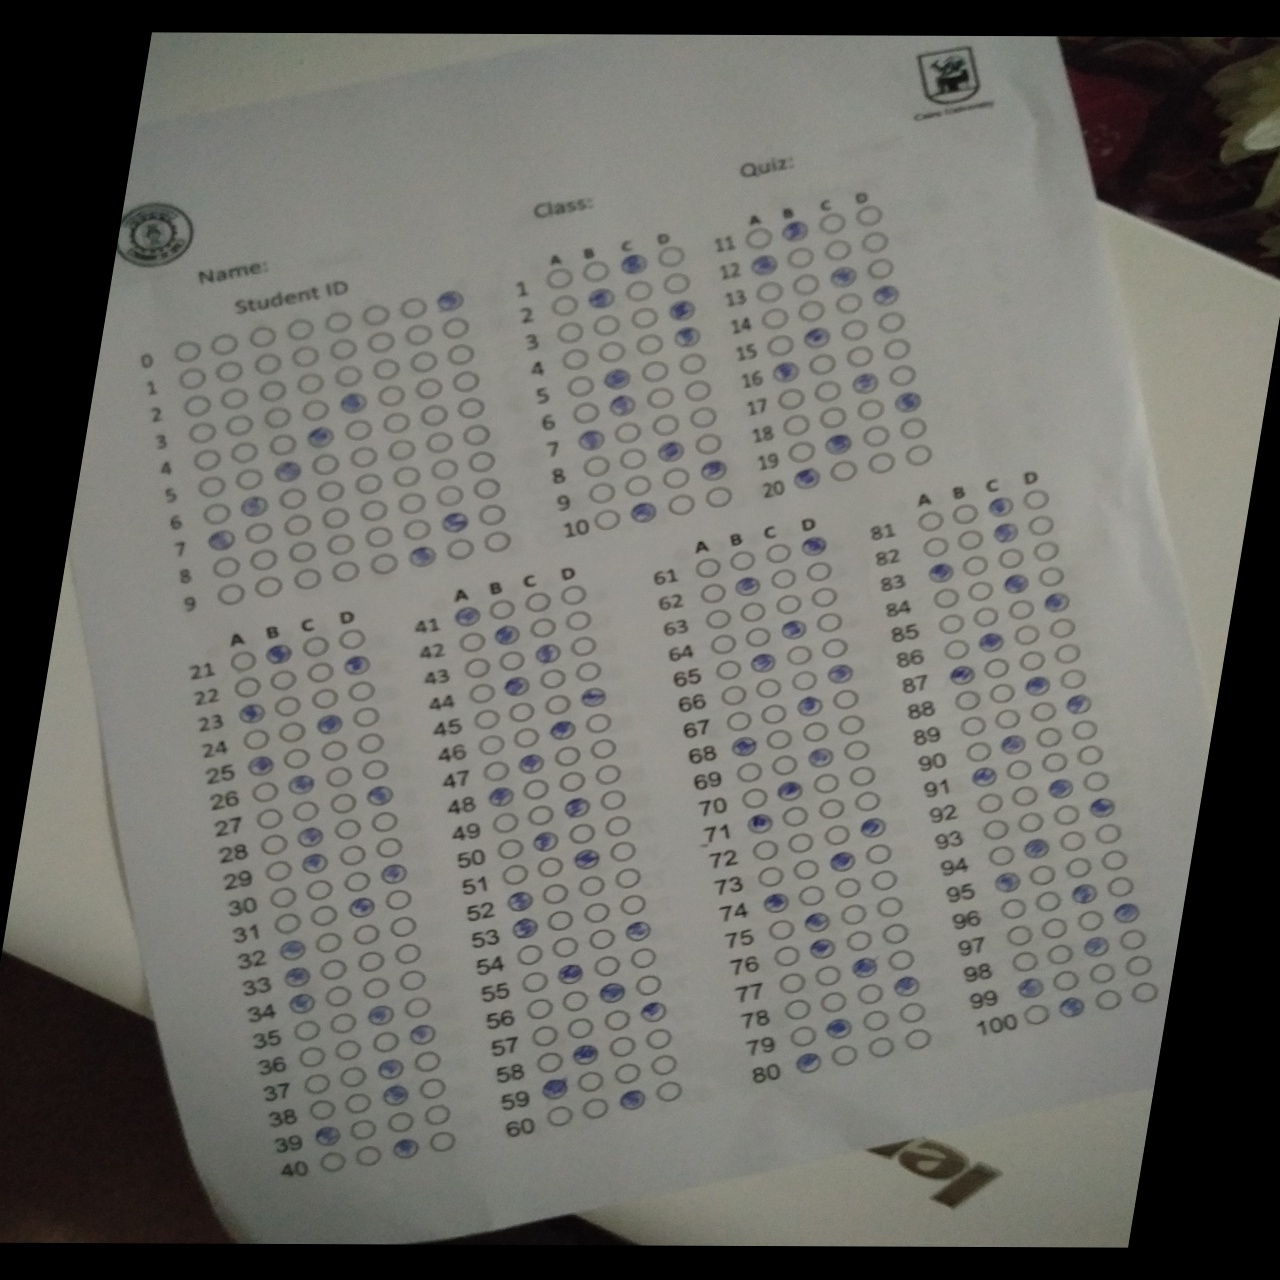not-c: (309, 930, 346, 956), (794, 297, 830, 324), (359, 302, 394, 329), (288, 343, 324, 370), (858, 229, 893, 256), (770, 942, 805, 969), (169, 339, 205, 365), (396, 295, 433, 321), (331, 363, 367, 389), (207, 554, 244, 580), (245, 547, 281, 573), (238, 726, 274, 751), (590, 508, 626, 533), (679, 379, 715, 404), (831, 290, 867, 315), (748, 837, 784, 863), (788, 857, 824, 883), (829, 876, 865, 901), (815, 990, 851, 1016), (245, 325, 280, 350), (281, 318, 316, 343), (320, 311, 355, 336), (212, 359, 247, 384), (175, 366, 210, 392), (216, 386, 251, 411), (254, 380, 290, 406), (222, 413, 257, 438), (188, 448, 223, 474), (265, 433, 300, 458), (433, 484, 468, 510), (428, 457, 463, 483), (230, 467, 265, 492), (195, 475, 230, 501), (198, 502, 233, 527), (241, 520, 277, 546), (250, 574, 285, 600), (213, 581, 248, 607), (247, 779, 282, 805), (256, 832, 291, 858), (279, 745, 314, 771), (334, 627, 369, 653), (343, 678, 379, 703), (348, 704, 383, 730), (367, 808, 402, 833), (336, 843, 372, 869), (306, 903, 341, 928), (354, 949, 389, 975), (315, 956, 350, 982), (320, 983, 355, 1009), (395, 968, 430, 994), (315, 1149, 350, 1175), (522, 996, 557, 1022), (512, 942, 547, 968), (583, 927, 618, 953), (599, 1008, 634, 1034), (533, 855, 568, 880), (564, 821, 599, 846), (599, 813, 634, 839), (554, 583, 590, 608), (535, 666, 570, 692), (504, 700, 539, 726), (472, 734, 508, 760), (470, 706, 505, 731), (584, 481, 619, 506), (580, 454, 615, 479), (692, 433, 727, 458), (649, 413, 685, 438), (610, 418, 645, 444), (642, 386, 678, 411), (639, 359, 674, 384), (631, 332, 666, 358), (578, 258, 613, 284), (542, 266, 577, 292), (782, 244, 817, 270), (862, 256, 897, 281), (837, 316, 872, 342), (873, 311, 908, 336), (805, 352, 840, 377), (772, 386, 808, 411), (783, 440, 818, 465), (692, 554, 727, 580), (760, 542, 795, 567), (700, 606, 735, 632), (770, 592, 805, 618), (741, 625, 776, 651), (716, 683, 751, 709), (721, 708, 756, 734), (833, 712, 869, 737), (796, 720, 831, 745), (765, 753, 801, 778), (839, 738, 874, 764), (737, 785, 772, 811), (849, 788, 884, 813), (836, 903, 871, 928), (878, 921, 913, 947), (858, 1009, 893, 1035), (1019, 486, 1054, 512), (1023, 513, 1058, 539), (952, 527, 987, 553), (917, 535, 952, 560), (326, 338, 362, 362), (367, 358, 403, 382), (297, 399, 333, 423), (260, 407, 297, 431), (184, 421, 220, 445), (226, 440, 263, 464), (452, 397, 489, 422), (387, 465, 423, 490), (316, 506, 353, 531), (275, 721, 312, 745), (358, 757, 394, 782), (299, 1073, 335, 1097), (340, 1091, 376, 1116), (531, 1050, 567, 1075), (625, 946, 661, 971), (604, 1035, 640, 1060), (538, 883, 574, 907), (674, 353, 710, 377), (557, 347, 593, 372), (546, 294, 583, 319), (851, 204, 887, 229), (757, 306, 794, 331), (815, 406, 851, 430), (777, 414, 813, 438), (857, 423, 893, 448), (900, 443, 937, 468), (811, 610, 847, 634), (816, 636, 852, 661), (755, 702, 791, 727), (774, 972, 810, 996), (852, 982, 888, 1007), (784, 1024, 821, 1049), (862, 1035, 898, 1060), (316, 738, 350, 764), (290, 1017, 324, 1043), (425, 1129, 459, 1155), (595, 787, 629, 812), (520, 590, 554, 615), (617, 448, 651, 474), (828, 1043, 862, 1069), (402, 324, 437, 348), (365, 329, 400, 354), (250, 352, 285, 376), (179, 394, 215, 418), (292, 372, 327, 396), (406, 350, 441, 375), (443, 342, 478, 367), (373, 383, 408, 408), (341, 417, 376, 442), (379, 411, 414, 436), (417, 403, 452, 428), (464, 450, 499, 475), (475, 503, 510, 527), (422, 430, 457, 455), (384, 438, 420, 463), (347, 444, 382, 469), (308, 452, 343, 477), (349, 472, 384, 497), (394, 490, 429, 515), (356, 499, 392, 524), (284, 540, 319, 565), (361, 525, 396, 550), (399, 517, 434, 542), (442, 537, 477, 561), (366, 552, 401, 577), (329, 558, 365, 583), (229, 675, 264, 700), (252, 808, 287, 832), (288, 799, 324, 824), (270, 694, 305, 719), (302, 660, 338, 685), (307, 687, 342, 712), (322, 765, 358, 790), (326, 792, 361, 817), (261, 859, 297, 884), (265, 885, 300, 910), (302, 879, 338, 904), (339, 870, 374, 894), (268, 912, 304, 937), (349, 922, 384, 947), (386, 915, 421, 940), (400, 995, 435, 1020), (325, 1010, 360, 1035), (294, 1044, 329, 1069), (369, 1030, 404, 1055), (410, 1048, 445, 1073), (335, 1064, 370, 1089), (304, 1098, 339, 1123), (414, 1076, 449, 1101), (383, 1110, 418, 1135), (345, 1117, 380, 1142), (352, 1144, 387, 1169), (543, 1104, 578, 1129), (572, 1070, 607, 1095), (518, 971, 553, 995), (588, 954, 624, 979), (629, 974, 665, 999), (561, 1016, 597, 1041), (642, 1027, 678, 1051), (646, 1053, 681, 1077), (651, 1080, 686, 1104), (579, 901, 614, 926), (574, 874, 610, 899), (610, 866, 645, 891), (615, 892, 651, 917), (542, 907, 577, 932), (497, 863, 532, 887), (493, 837, 529, 862), (605, 839, 640, 864), (591, 762, 626, 787), (554, 769, 590, 794), (523, 803, 558, 828), (585, 737, 620, 762), (579, 712, 614, 736), (571, 660, 606, 685), (567, 634, 602, 659), (525, 615, 560, 640), (540, 692, 576, 716), (508, 726, 543, 750), (465, 682, 501, 707), (493, 649, 529, 674), (456, 631, 491, 655), (484, 598, 519, 622), (620, 472, 655, 497), (701, 484, 736, 509), (686, 406, 721, 430), (568, 401, 604, 425), (564, 374, 599, 399), (593, 340, 628, 365), (626, 307, 661, 332), (588, 313, 624, 338), (552, 320, 587, 345), (621, 279, 656, 304), (658, 272, 693, 297), (741, 226, 776, 251), (815, 211, 850, 236), (821, 238, 856, 263), (789, 272, 824, 297), (753, 279, 788, 304), (763, 333, 798, 358), (880, 338, 915, 362), (842, 345, 877, 369), (810, 379, 845, 403), (885, 363, 920, 388), (853, 397, 888, 422), (896, 416, 931, 441), (863, 451, 898, 476), (825, 459, 860, 484), (799, 560, 835, 585), (806, 585, 842, 610), (710, 658, 745, 682), (782, 644, 817, 668), (787, 668, 822, 693), (750, 675, 785, 700), (829, 687, 864, 712), (761, 728, 796, 753), (844, 763, 879, 788), (809, 771, 844, 796), (778, 803, 813, 828), (813, 797, 849, 822), (782, 830, 817, 855), (863, 842, 898, 866), (867, 869, 903, 893), (764, 918, 799, 942), (871, 896, 906, 920), (840, 930, 876, 954), (810, 964, 845, 988), (900, 1027, 935, 1051), (912, 510, 947, 535), (947, 503, 982, 527), (280, 515, 316, 538), (358, 975, 394, 999), (418, 1103, 455, 1126), (546, 937, 583, 960), (207, 333, 241, 358), (411, 376, 445, 401), (275, 486, 309, 511), (324, 533, 358, 558), (481, 530, 515, 554), (331, 817, 365, 842), (372, 836, 406, 860), (331, 1039, 365, 1063), (610, 1062, 644, 1087), (561, 608, 595, 633), (459, 655, 493, 680), (658, 467, 692, 491), (726, 549, 760, 573), (704, 633, 738, 658), (731, 761, 765, 785), (821, 823, 855, 847), (779, 998, 813, 1022), (1056, 667, 1090, 692), (983, 844, 1017, 869), (1024, 863, 1058, 887), (1007, 949, 1041, 974), (438, 315, 474, 339), (449, 369, 484, 393), (458, 422, 493, 445), (468, 477, 503, 501), (312, 481, 347, 504), (290, 567, 325, 591), (225, 649, 260, 673), (267, 669, 302, 693), (298, 635, 333, 659), (353, 731, 388, 755), (381, 887, 416, 911), (390, 942, 425, 966), (577, 1097, 612, 1121), (527, 1024, 563, 1048), (557, 990, 592, 1014), (518, 777, 553, 801), (489, 811, 524, 835), (549, 744, 584, 768), (478, 760, 513, 783), (663, 493, 699, 517), (654, 245, 689, 268), (696, 581, 731, 605), (735, 600, 770, 624), (753, 866, 788, 890), (794, 885, 829, 908), (883, 949, 918, 973), (896, 1001, 931, 1024), (1005, 597, 1037, 621), (1026, 700, 1058, 724), (1032, 726, 1064, 750), (1057, 829, 1090, 853), (1097, 847, 1130, 872), (1103, 874, 1136, 899), (996, 898, 1029, 922), (1039, 917, 1071, 941), (765, 567, 799, 591), (964, 580, 998, 604), (968, 605, 1002, 628), (1046, 617, 1080, 640), (1010, 622, 1044, 646), (1050, 642, 1084, 666), (1073, 744, 1107, 768), (1080, 770, 1114, 794), (1043, 944, 1077, 967), (1049, 968, 1083, 992), (958, 554, 990, 578), (994, 547, 1027, 571), (1034, 565, 1067, 588), (930, 586, 962, 610), (934, 613, 967, 636), (940, 638, 973, 661), (1015, 649, 1048, 673), (985, 682, 1017, 706), (955, 715, 988, 738), (990, 708, 1023, 731), (974, 792, 1007, 816), (1014, 811, 1047, 835), (1050, 804, 1083, 828), (1092, 823, 1125, 846), (1061, 857, 1094, 880), (1032, 890, 1064, 913), (1122, 954, 1155, 978), (1128, 982, 1160, 1006), (1084, 962, 1118, 985), (1068, 719, 1099, 742), (962, 741, 994, 764), (1003, 758, 1035, 782), (1009, 785, 1041, 809), (980, 817, 1012, 840), (1005, 924, 1036, 947), (1075, 908, 1107, 932), (1118, 928, 1150, 952), (1092, 988, 1124, 1012), (1020, 1002, 1051, 1026), (979, 658, 1012, 680), (951, 690, 983, 713), (1030, 539, 1062, 561), (1039, 751, 1070, 774)
taken-c: (309, 712, 346, 736), (343, 896, 380, 920), (278, 965, 314, 989), (614, 1088, 651, 1112), (450, 605, 486, 629), (605, 394, 641, 418), (776, 617, 812, 641), (856, 815, 892, 839), (1065, 881, 1102, 906), (972, 631, 1008, 655), (988, 520, 1024, 545), (236, 493, 271, 518), (203, 529, 238, 553), (438, 510, 474, 535), (282, 774, 318, 798), (376, 862, 411, 886), (274, 938, 309, 962), (284, 990, 319, 1015), (594, 980, 629, 1005), (503, 888, 538, 913), (568, 847, 604, 872), (513, 753, 549, 777), (576, 686, 611, 710), (490, 622, 525, 647), (626, 501, 661, 525), (696, 459, 731, 484), (654, 440, 689, 464), (599, 367, 634, 392), (867, 284, 903, 308), (768, 360, 803, 384), (745, 651, 781, 675), (826, 850, 862, 874), (799, 908, 835, 933), (805, 937, 840, 961), (847, 956, 883, 981), (996, 733, 1032, 757), (1062, 692, 1097, 716), (945, 663, 980, 688), (983, 495, 1019, 519), (335, 393, 372, 416), (301, 427, 338, 450), (259, 644, 295, 667), (339, 654, 375, 678), (241, 755, 278, 778), (372, 1058, 408, 1082), (309, 1125, 346, 1149), (388, 1137, 424, 1160), (636, 1000, 673, 1023), (620, 920, 656, 944), (559, 797, 595, 821), (483, 787, 519, 810), (530, 642, 566, 666), (573, 429, 610, 452), (890, 390, 926, 414), (789, 467, 825, 490), (796, 535, 832, 558), (726, 735, 762, 758), (888, 975, 925, 999), (821, 1017, 857, 1041), (789, 1051, 825, 1075), (1019, 837, 1055, 860), (922, 561, 959, 585), (760, 891, 794, 915), (433, 288, 468, 312), (268, 461, 304, 484), (233, 702, 268, 726), (292, 826, 327, 850), (297, 851, 332, 874), (363, 1003, 399, 1027), (406, 1023, 441, 1047), (553, 964, 588, 987), (506, 918, 542, 941), (529, 830, 564, 853), (544, 719, 579, 742), (499, 674, 535, 697), (669, 326, 704, 349), (665, 300, 700, 324), (584, 287, 619, 311), (617, 254, 652, 278), (847, 372, 883, 395), (821, 434, 856, 457), (730, 574, 765, 598), (792, 694, 828, 717), (803, 745, 838, 769), (742, 811, 777, 835), (1109, 901, 1144, 925), (989, 870, 1024, 893), (1085, 797, 1121, 821), (1043, 777, 1078, 801), (967, 765, 1002, 789), (1020, 675, 1055, 699), (1039, 592, 1074, 615), (999, 572, 1034, 595), (536, 1078, 572, 1101), (822, 662, 858, 685), (1012, 976, 1048, 999), (1054, 996, 1090, 1019), (406, 546, 440, 570), (826, 266, 860, 290), (1080, 935, 1114, 959), (363, 784, 399, 806), (379, 1084, 414, 1107), (568, 1043, 604, 1065), (745, 254, 781, 277), (799, 327, 835, 349), (772, 779, 808, 802), (777, 222, 813, 243)
